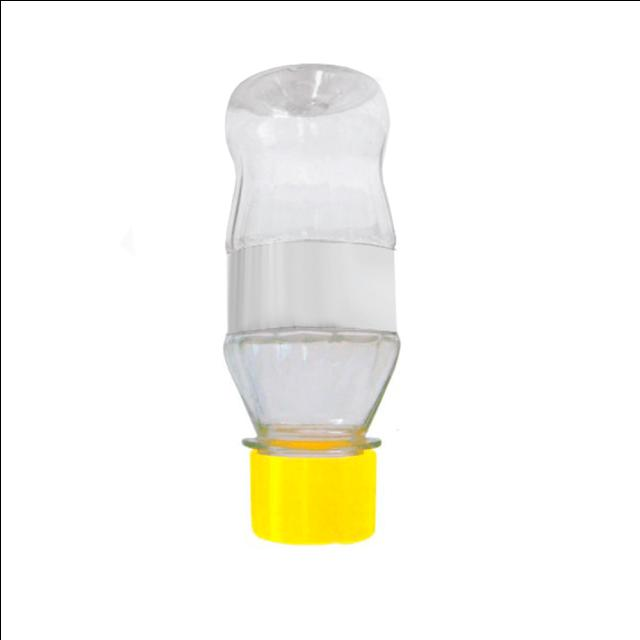bottom: (208, 61, 388, 166)
cap: (224, 428, 400, 547)
